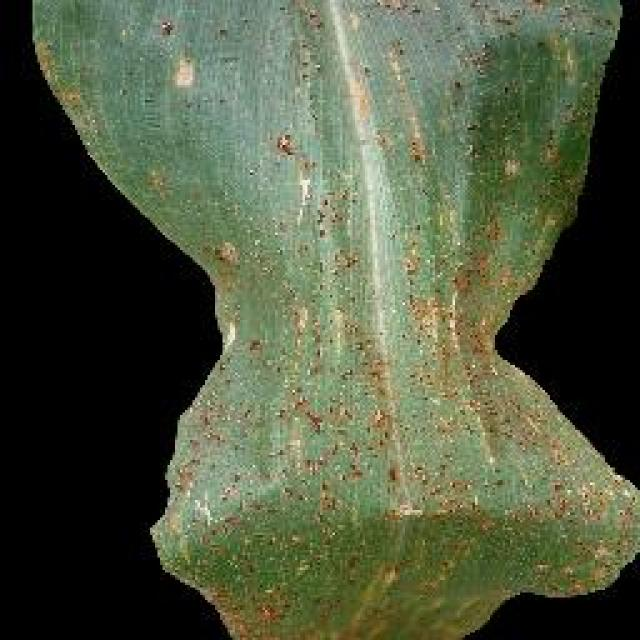Corn Common Rust: (248, 49, 562, 608)
